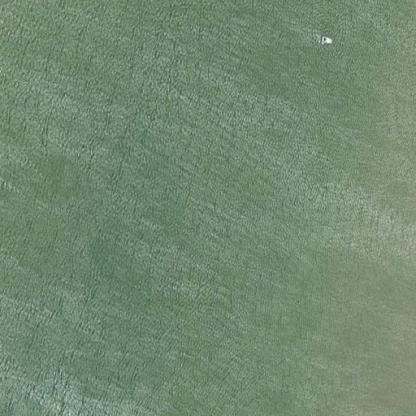ship: (319, 34, 333, 46)
